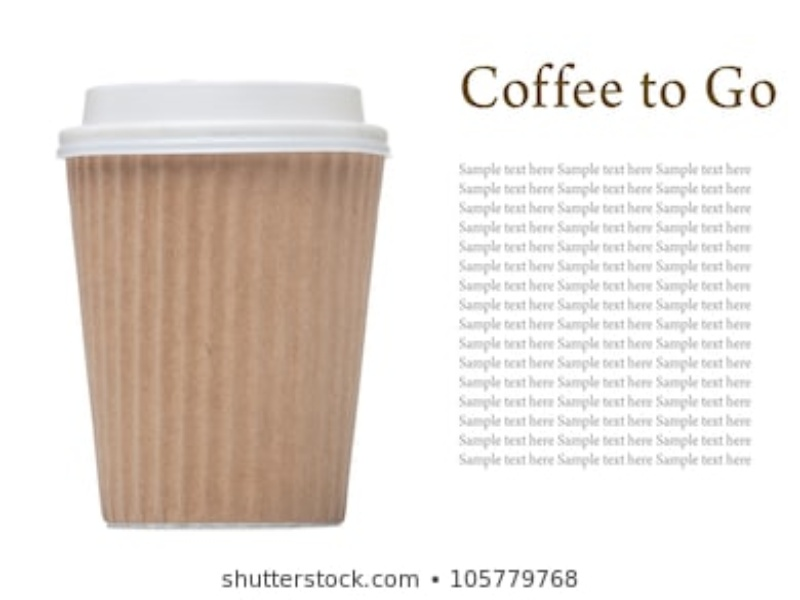coffee-lid: (52, 75, 403, 167)
plastic-cup: (50, 131, 387, 533)
